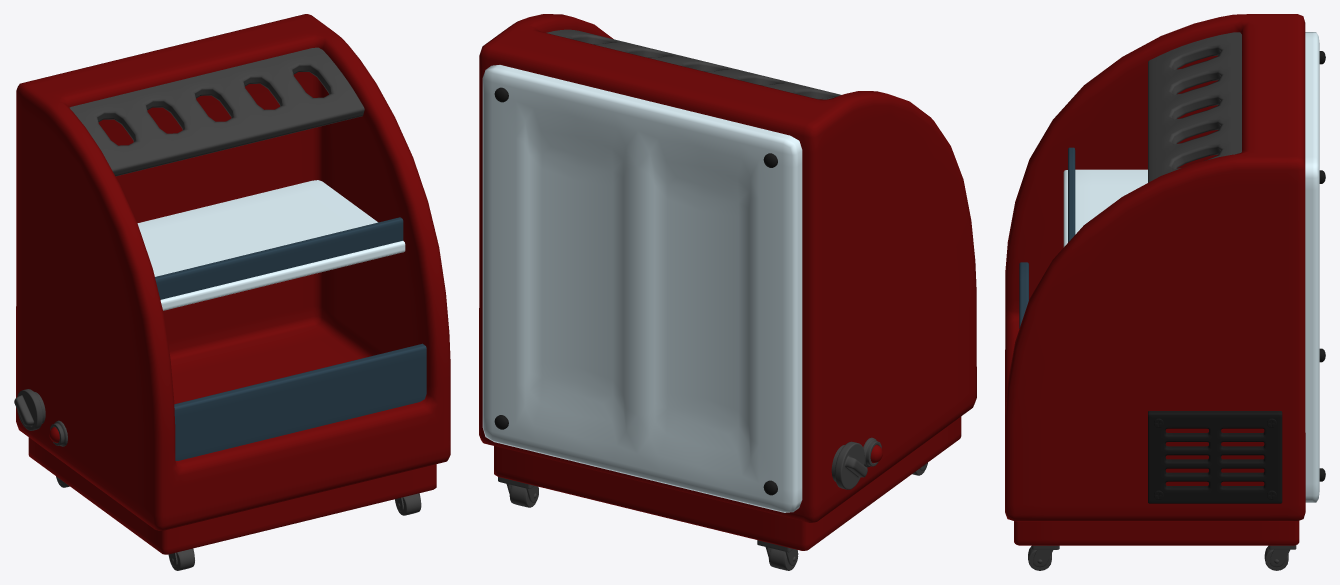
File: Display Cooler.fbx
3 renders of one model, left to right at view 1: azimuth 30°, elevation 25°; view 2: azimuth 150°, elevation 25°; view 3: azimuth 270°, elevation 25°, orthographic. The views are drawn at different scales.
Visible parts, largest first — view 1: body, top_vent, shelf_1, front_glass, base, edge_1, Control_Knob; view 2: back_panel, body, base, top_vent, Control_Knob; view 3: body, top_vent, vent, base, back_panel, shelf_1, edge_1, front_glass.
Boxes of the visible parts, box(x1,y1,x2,y2) form: body: box(16, 14, 450, 530); top_vent: box(69, 47, 364, 176); shelf_1: box(137, 180, 405, 310); front_glass: box(174, 343, 426, 460); base: box(28, 437, 436, 554); edge_1: box(155, 217, 403, 299); Control_Knob: box(14, 389, 45, 430); back_panel: box(482, 65, 802, 512); body: box(479, 14, 976, 522); base: box(494, 416, 961, 550); top_vent: box(546, 29, 840, 99); Control_Knob: box(831, 441, 867, 489); body: box(1005, 14, 1305, 521); top_vent: box(1148, 32, 1241, 182); vent: box(1148, 411, 1282, 503); base: box(1014, 521, 1299, 545); back_panel: box(1305, 32, 1319, 502); shelf_1: box(1063, 169, 1147, 247); edge_1: box(1068, 147, 1075, 242); front_glass: box(1019, 262, 1028, 328).
Bounding box in the file's own units: 5.67 × 6.84 × 4.73.
